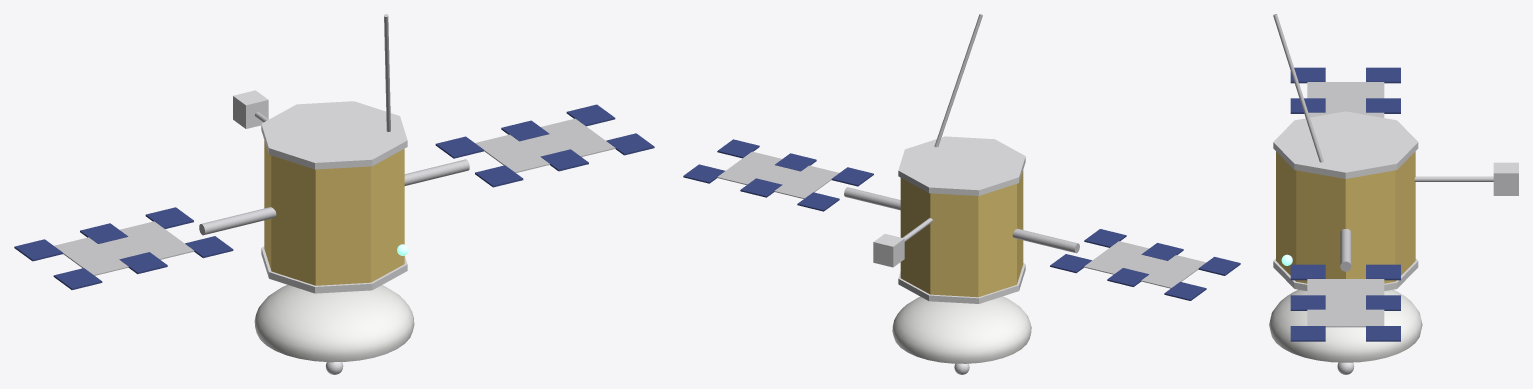
File: probe.glb
3 views of the same model, side by side, from view 1: azimuth 30°, elevation 25°; view 2: azimuth 150°, elevation 25°; view 3: azimuth 270°, elevation 25° (orthographic). The views are drawn at different scales.
Parts seen in each view (by area): view 1: probe; view 2: probe; view 3: probe.
Boxes of the visible parts, x1=… form: probe: x1=14, y1=14, x2=654, y2=374; probe: x1=683, y1=14, x2=1240, y2=374; probe: x1=1269, y1=14, x2=1518, y2=374.
Bounding box in the file's own units: 4.62 × 2.9 × 1.79.
